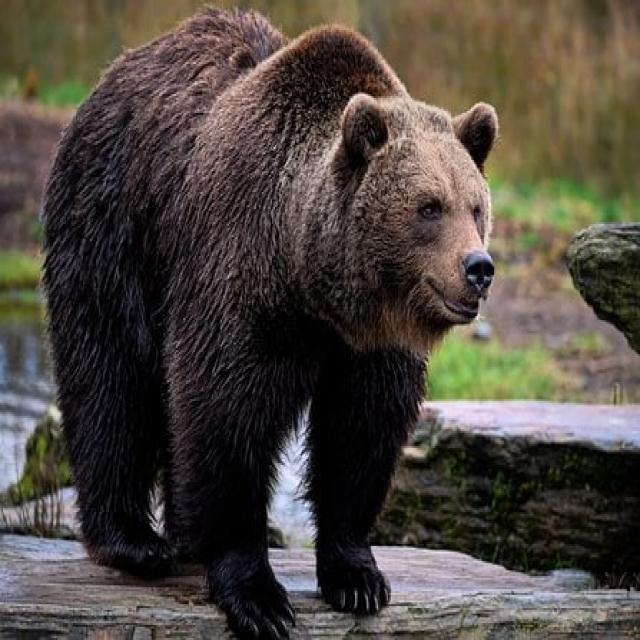Bear: (40, 9, 500, 640)
